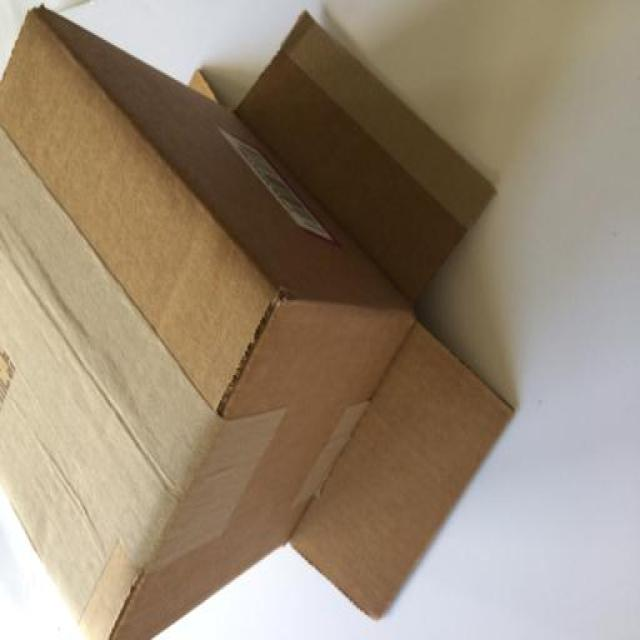cardboard: (0, 3, 516, 640)
